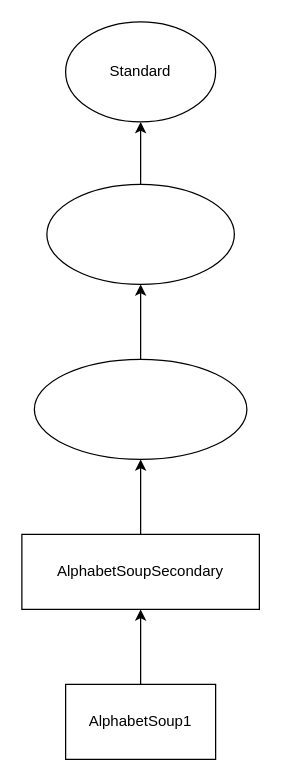
Image size: 281x781. Some labels were removed from this diagram. Each missing label, with the box of its shape:
AlphabetSoup: (33, 358, 247, 459)
AlphabetSoupKernel: (46, 183, 234, 284)
